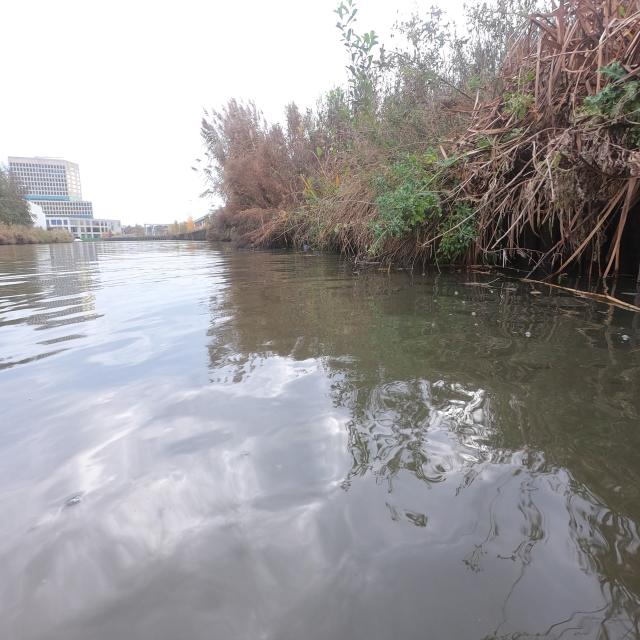reed: (201, 0, 640, 279)
water: (0, 241, 640, 640)
